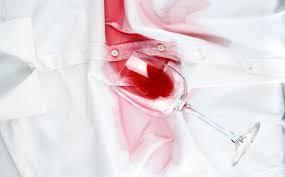oil: (99, 1, 172, 71), (120, 96, 179, 168), (150, 1, 214, 34)
